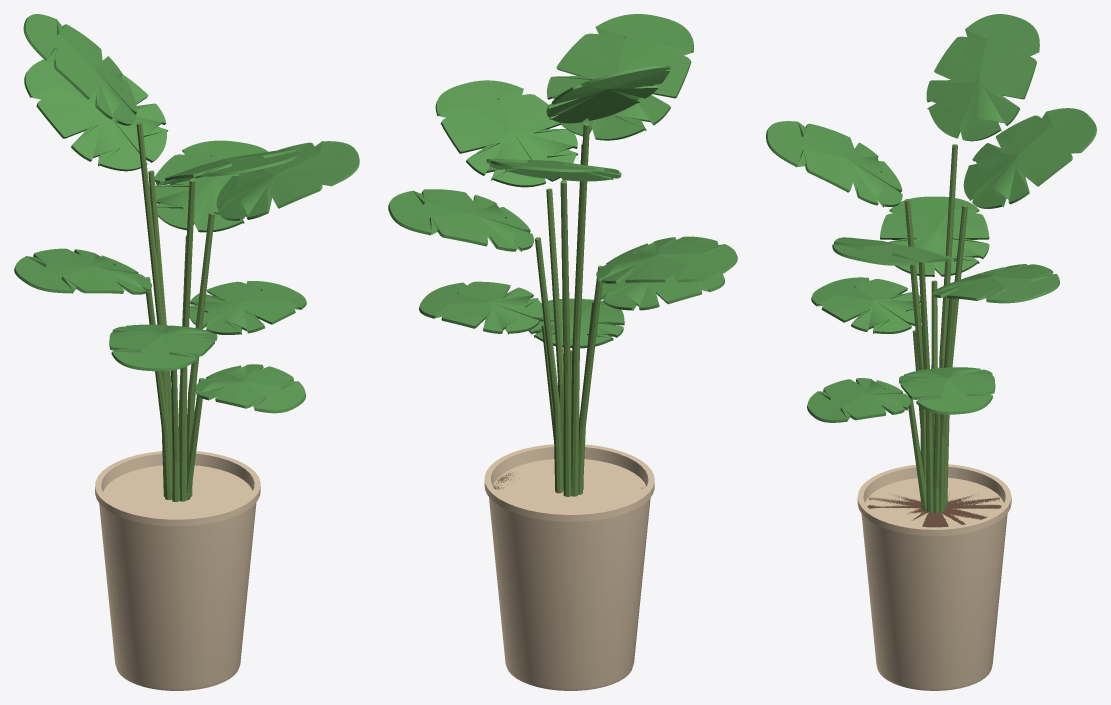
The model's file is plant_monstera.glb.
3 renders of one model, left to right at view 1: azimuth 30°, elevation 25°; view 2: azimuth 150°, elevation 25°; view 3: azimuth 270°, elevation 25°, orthographic. The views are drawn at different scales.
Visible parts, largest first — view 1: plant_monstera; view 2: plant_monstera; view 3: plant_monstera.
Boxes of the visible parts, x1=… form: plant_monstera: x1=14, y1=14, x2=359, y2=690; plant_monstera: x1=388, y1=14, x2=737, y2=690; plant_monstera: x1=766, y1=14, x2=1096, y2=690.
Size of the model in its own units: 0.6 by 1.2 by 0.6.
